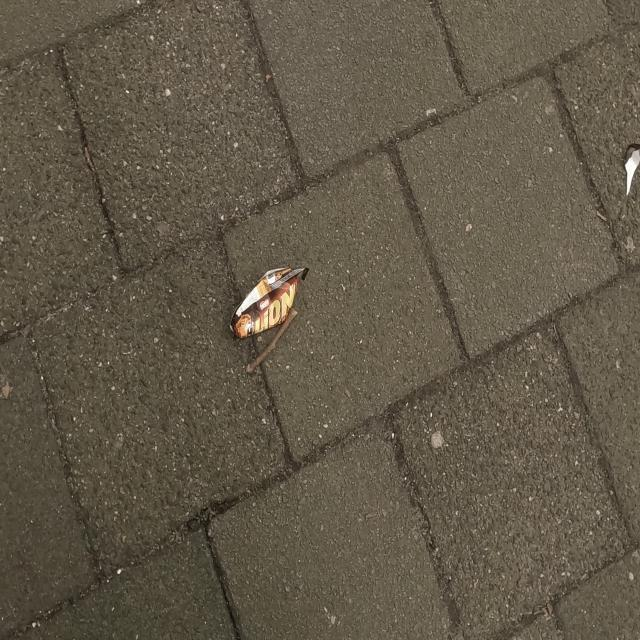Plastic: (228, 264, 309, 341)
